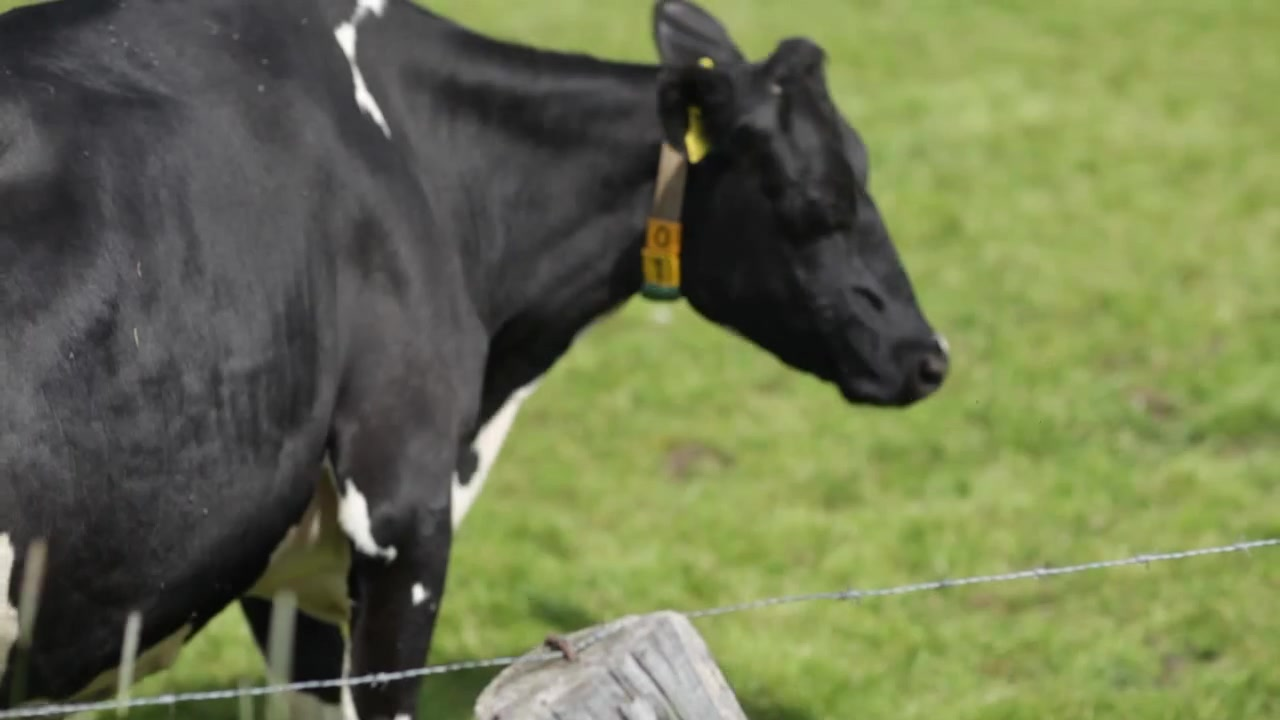cow: (1, 2, 955, 720)
